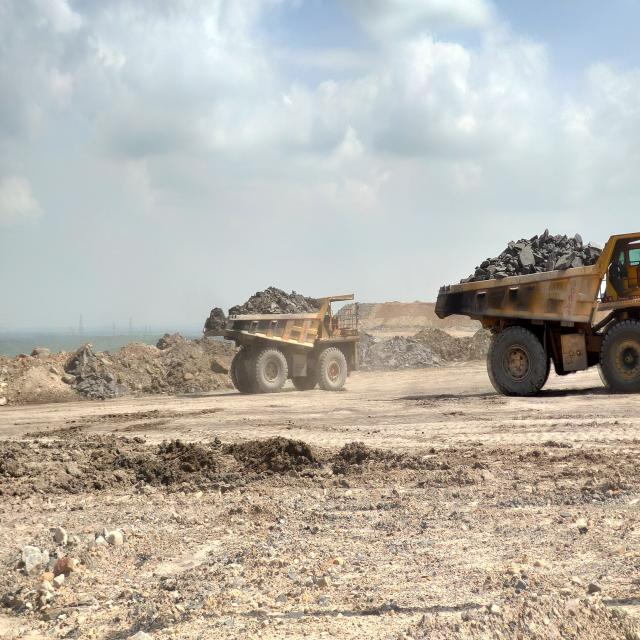dump_truck: (434, 229, 640, 397), (205, 287, 362, 394)
